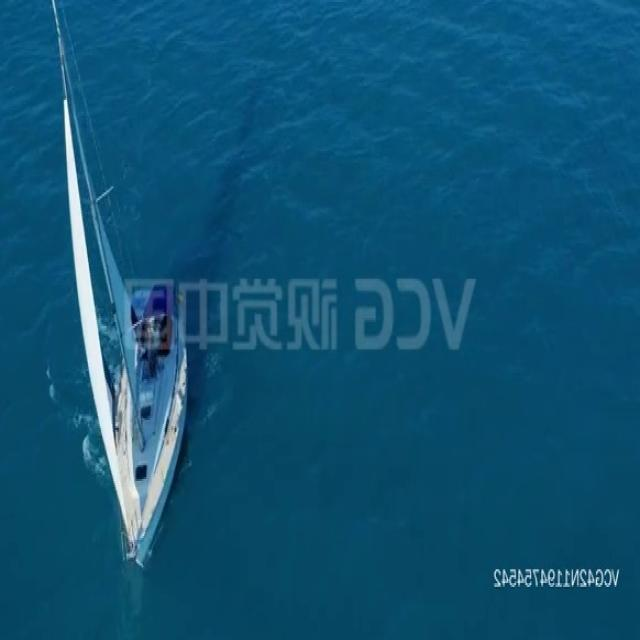sailboat: (40, 0, 199, 571)
